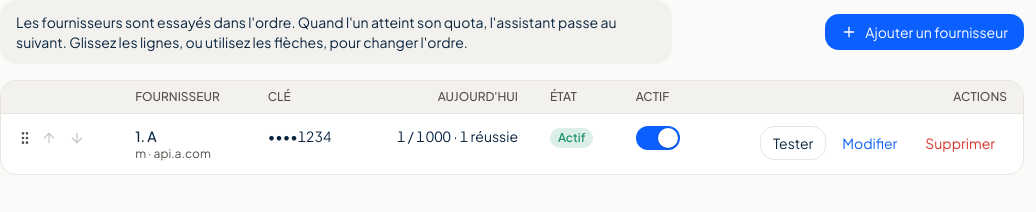
Test case: /assistant › Tester : affiche le résultat dans la ligne
The image size is (1036, 212).
Click the button with test id "provider-test-a" at [793, 143], box [760, 126, 826, 160]
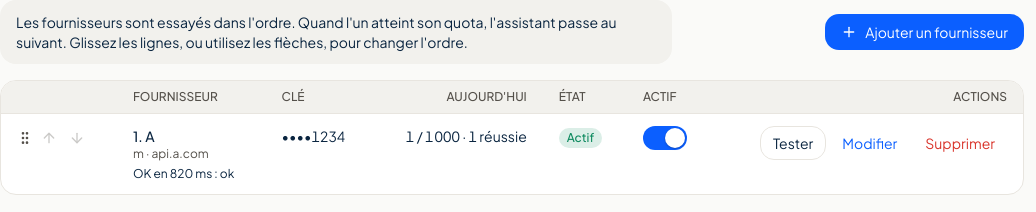
Check: the message with test id "provider-test-result-a" shows "OK en 820 ms", box [133, 166, 234, 181]
